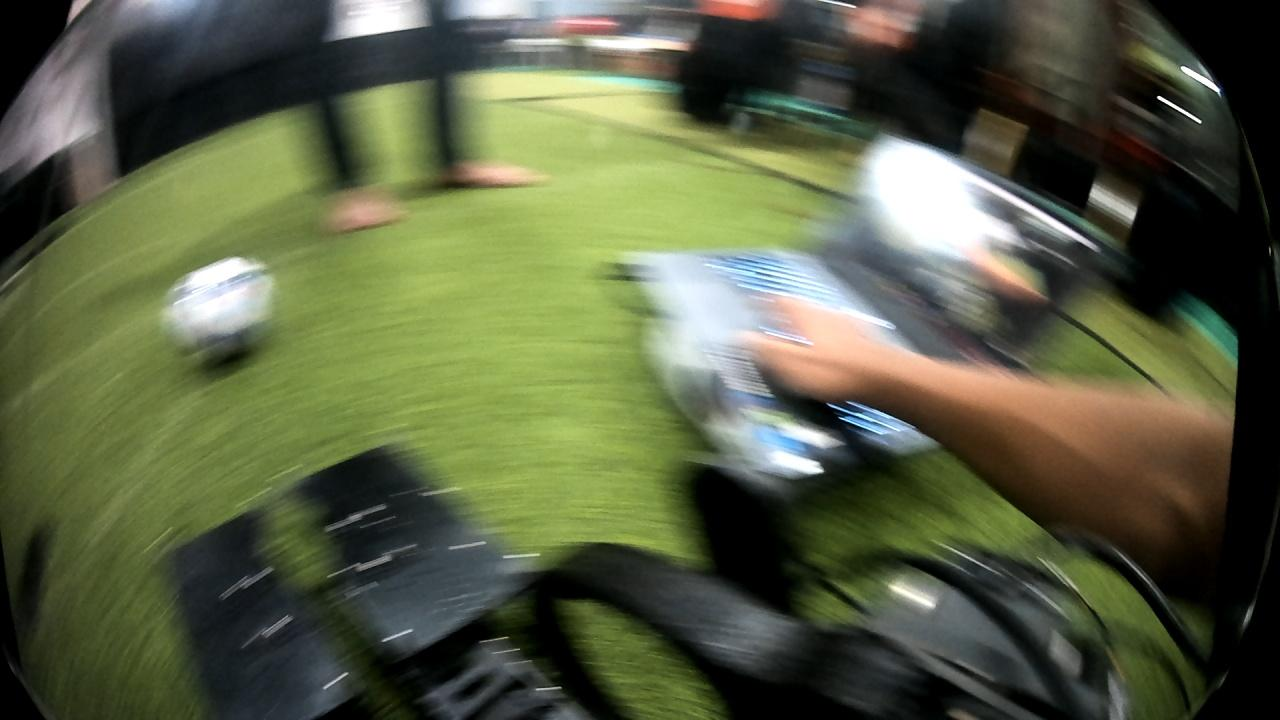ball: (149, 250, 285, 376)
